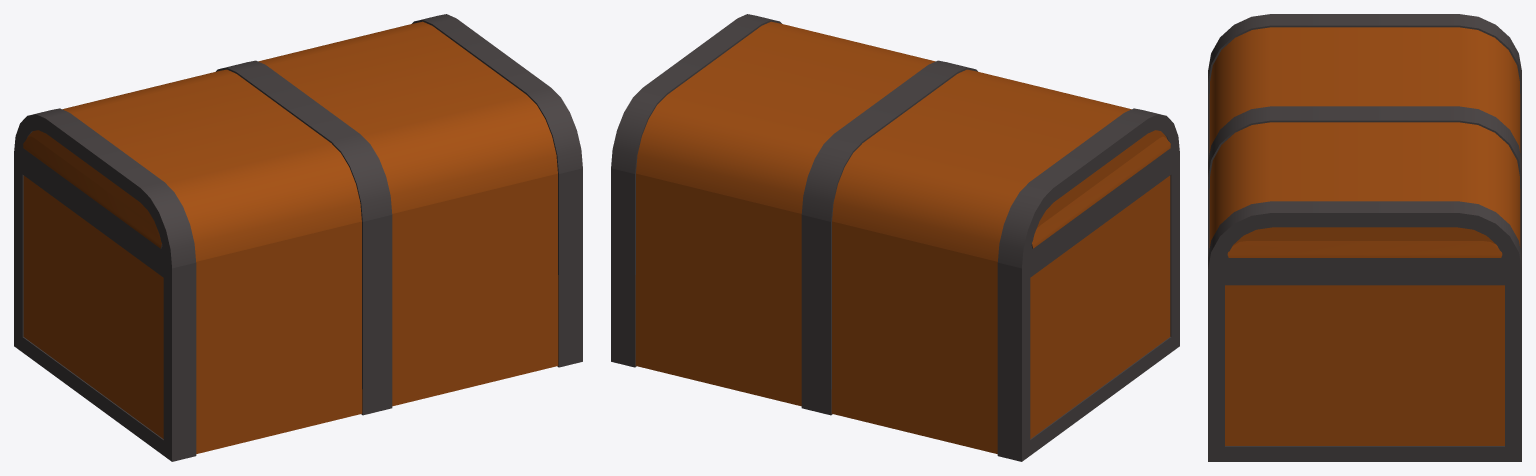
The model's file is BAUV4.fbx.
3 renders of one model, left to right at view 1: azimuth 30°, elevation 25°; view 2: azimuth 150°, elevation 25°; view 3: azimuth 270°, elevation 25°, orthographic.
Parts seen in each view (by area): view 1: Caixa, Tampa; view 2: Caixa, Tampa; view 3: Tampa, Caixa.
Part boxes in pixels (<box>): Caixa: <box>14,153,582,461</box>; Tampa: <box>14,14,582,268</box>; Caixa: <box>611,153,1179,461</box>; Tampa: <box>611,14,1179,268</box>; Tampa: <box>1208,14,1521,269</box>; Caixa: <box>1208,82,1521,461</box>.
Bounding box in the file's own units: 121 × 70 × 80.
Materials: 1 (1 with a texture image).
